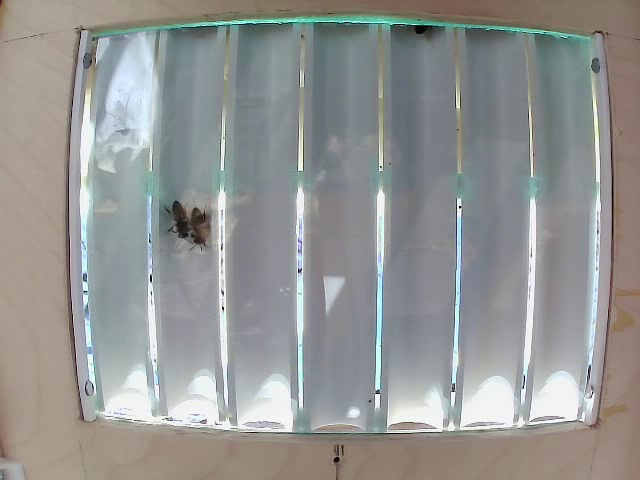bee: (186, 209, 221, 251), (167, 196, 197, 244)
